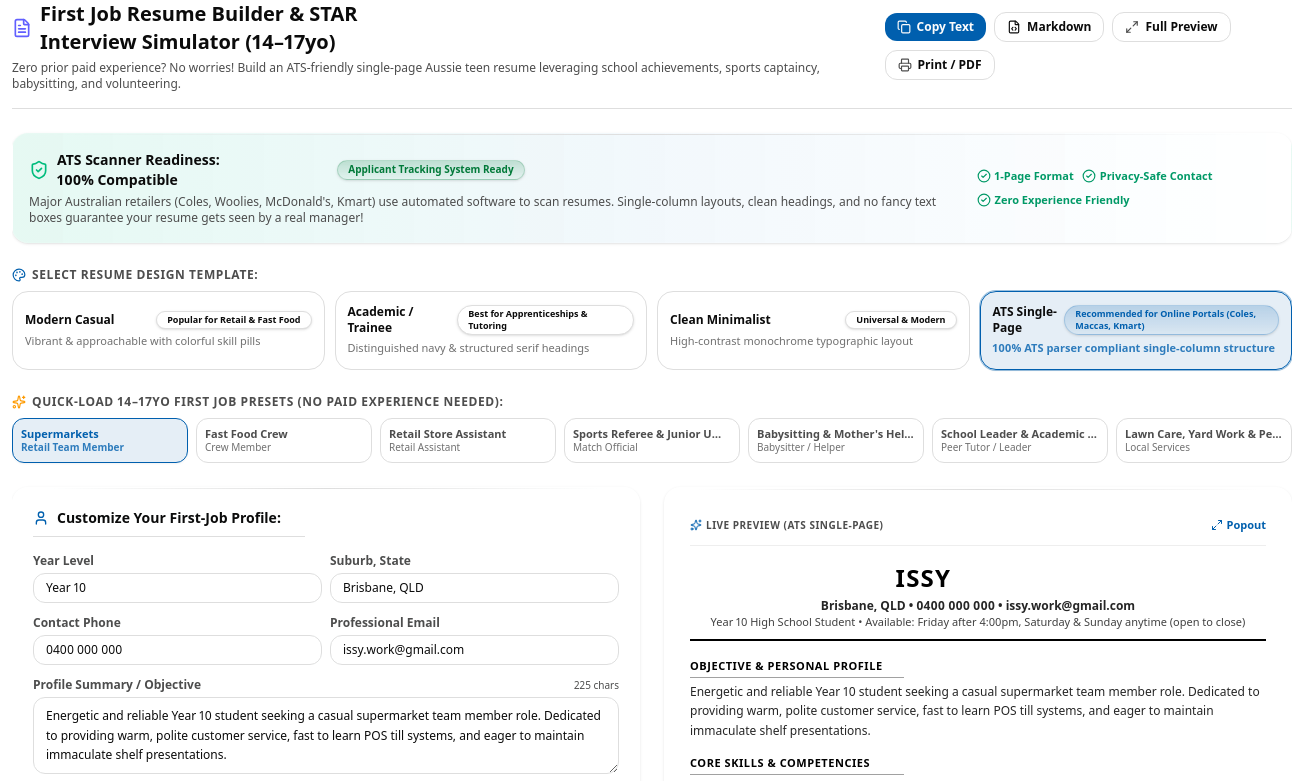
Test case: TeenResumeBuilder Component › renders all 7 zero-experience role presets and applies them on click
This screenshot has width=1304, height=781.
Check: the text "Supermarkets" is shown, box [21,426,99,440]
Check: the text "Fast Food Crew" is shown, box [205,426,288,440]
# Apply Babysitting preset
Click the text "Babysitting & Mother's Helper": (836, 434) [757,426,915,441]
(page scrolled)
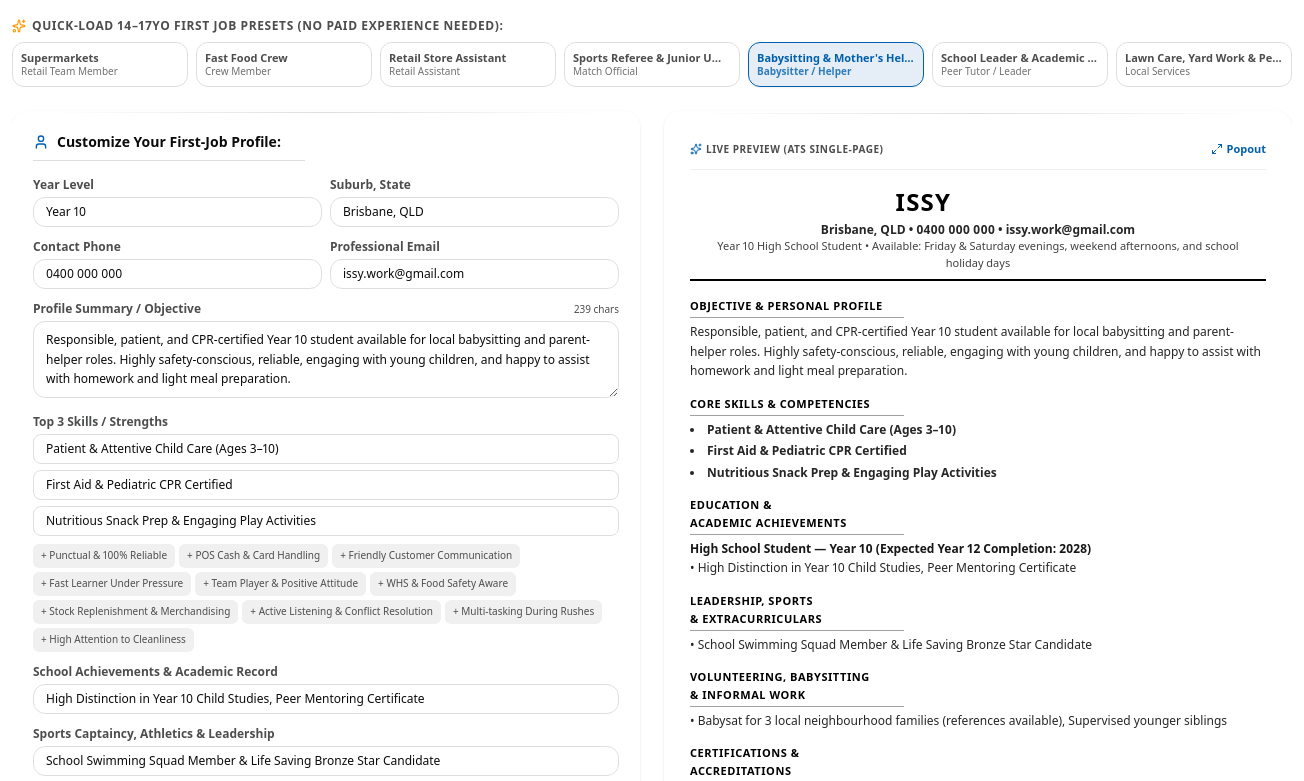
Check: the 5th field showing "Child Care" is shown, box [33,434,619,464]
